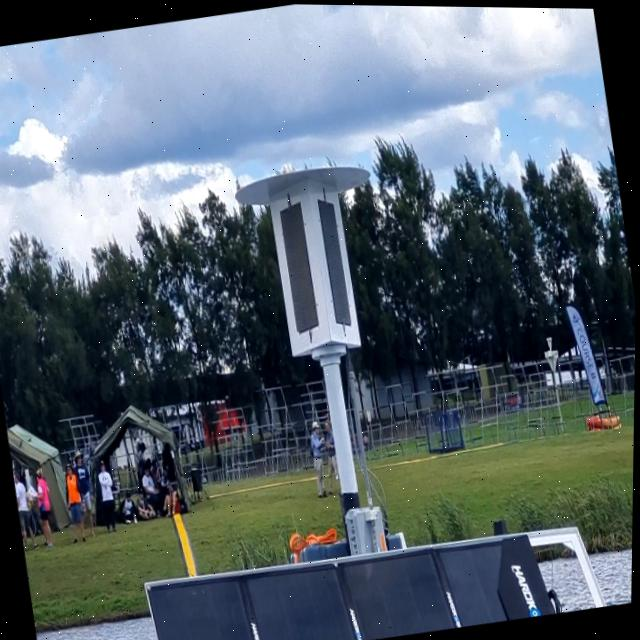led: (271, 193, 327, 342), (309, 184, 359, 334)
